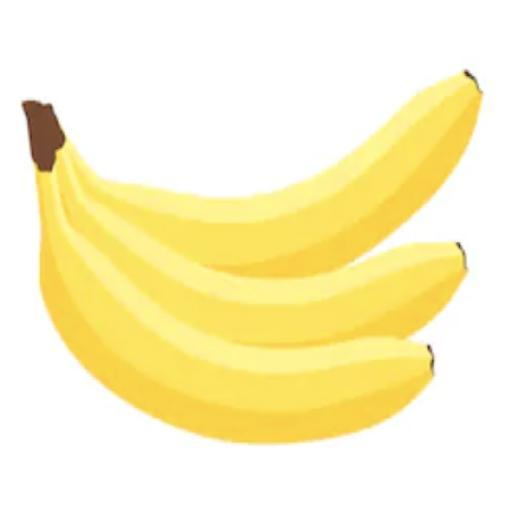banana: (37, 172, 432, 443), (54, 72, 481, 277), (54, 151, 465, 346)
